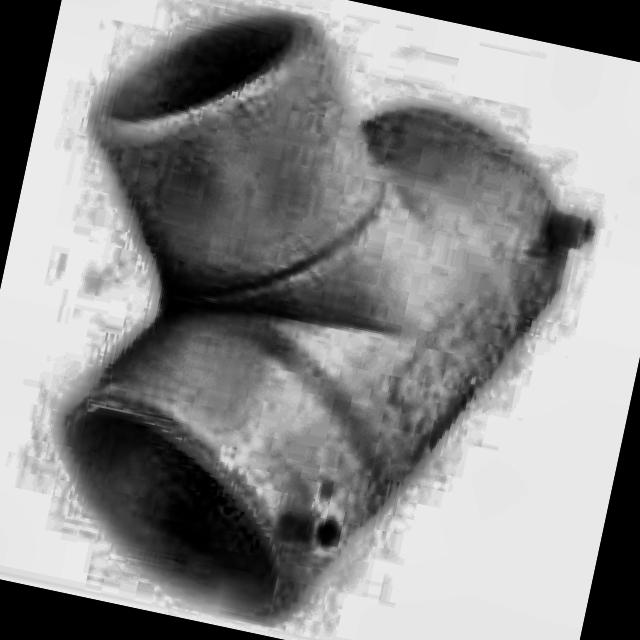EQUALTEE: (57, 10, 594, 619)
